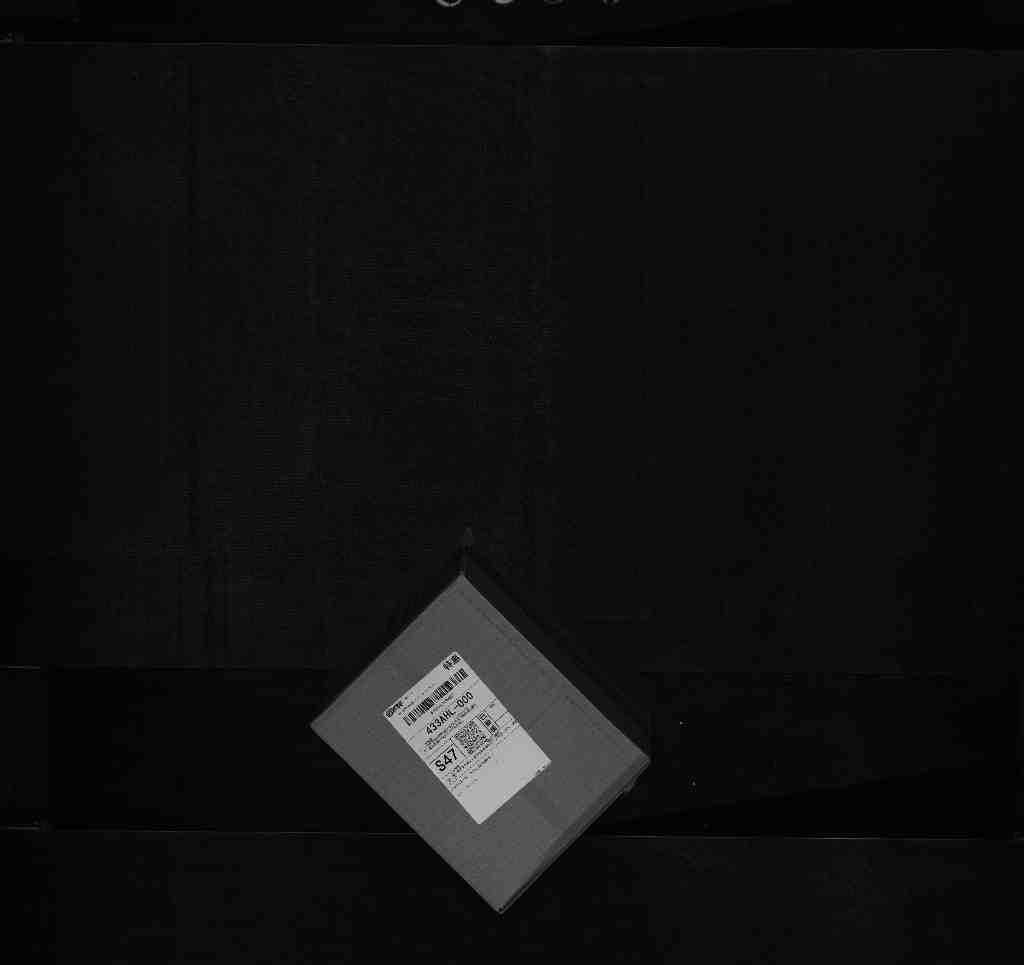box: (295, 557, 664, 919)
